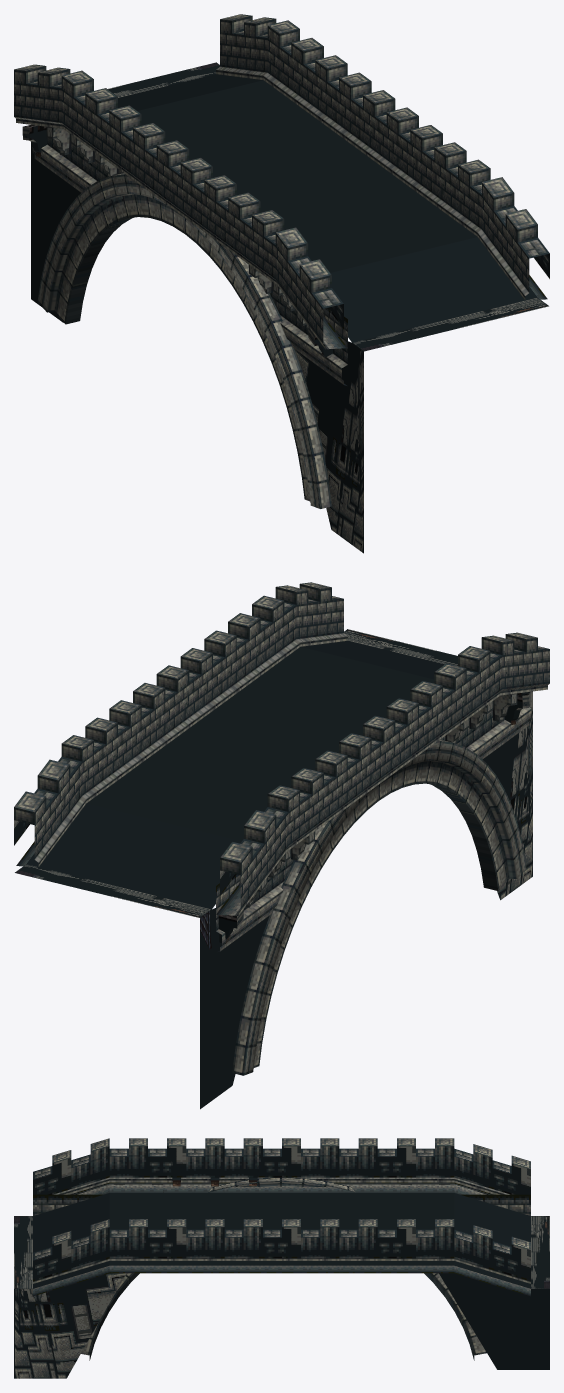
Rendered from EnvBdgMD_Castle_Rain_A_Bridge_A.FBX.
3 renders of one model, top to bottom at view 1: azimuth 30°, elevation 25°; view 2: azimuth 150°, elevation 25°; view 3: azimuth 270°, elevation 25°, orthographic. The views are drawn at different scales.
Parts seen in each view (by area): view 1: EnvBdgMD_Castle_Rain_A_Bridge_A; view 2: EnvBdgMD_Castle_Rain_A_Bridge_A; view 3: EnvBdgMD_Castle_Rain_A_Bridge_A.
Part boxes in pixels (bbox=[...]): EnvBdgMD_Castle_Rain_A_Bridge_A: bbox=[14, 14, 549, 553]; EnvBdgMD_Castle_Rain_A_Bridge_A: bbox=[14, 582, 549, 1109]; EnvBdgMD_Castle_Rain_A_Bridge_A: bbox=[14, 1138, 549, 1378].
Bounding box in the file's own units: 550 × 661 × 1400.
